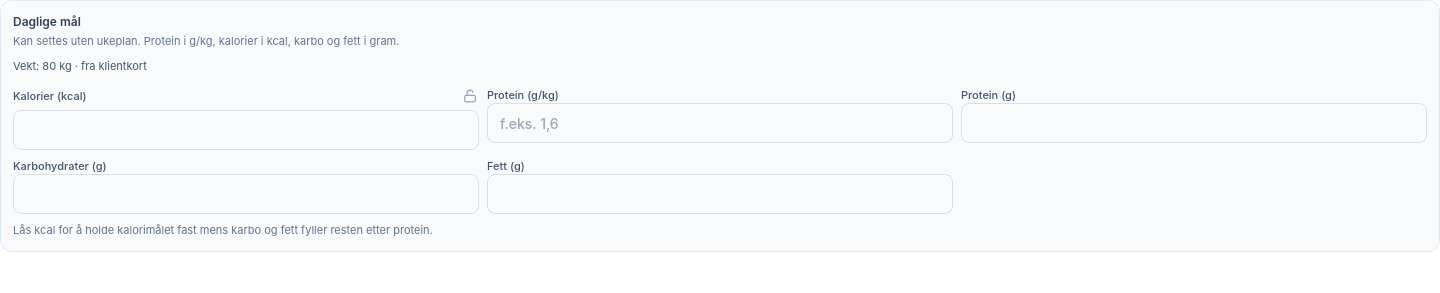
Test: TrainerNutritionTargetsPanel › lar comma og punktum stå i protein g/kg til desimalen er ferdig
The image size is (1440, 293).
Type "1,6" into the field labelled "Protein (g/kg)" at [720, 123], box [487,103,953,143]
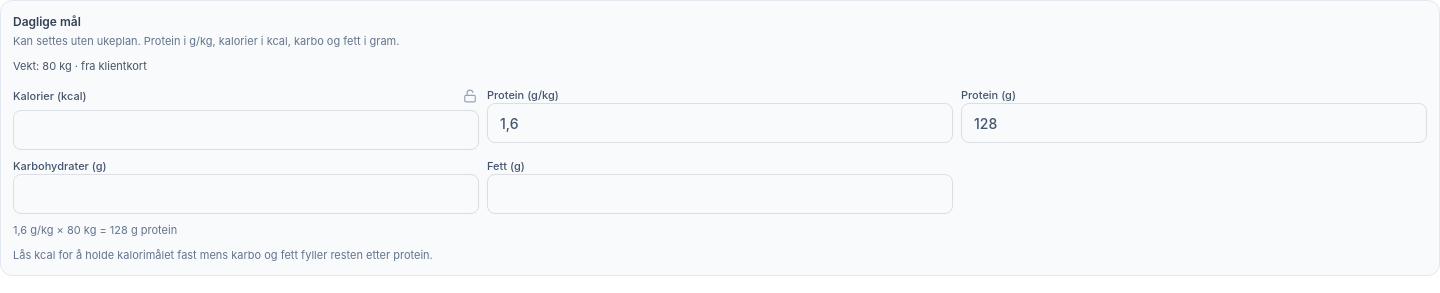
Result: the field labelled "Protein (g)" holds "128" at [961,103,1427,143]
